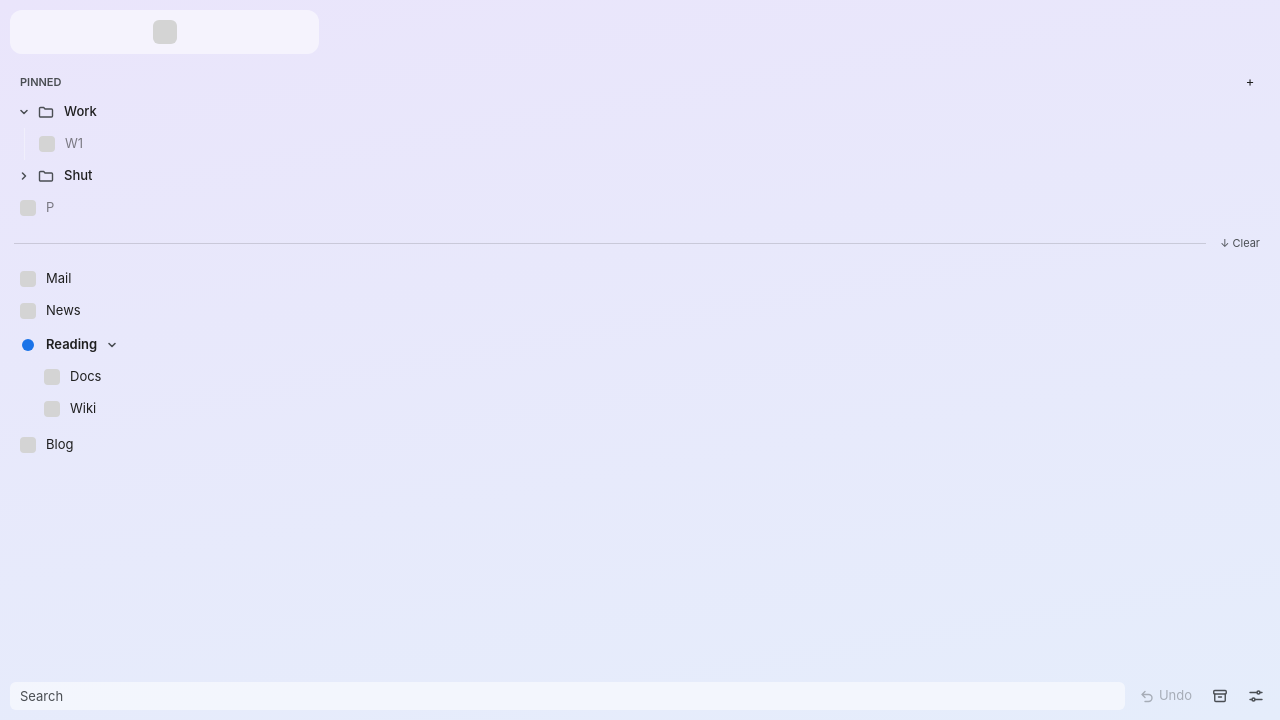
Test case: what the selection counts › shows the bar only while rows are selected, with the count and three buttons
Step 1. Click the button "Mail" → [28, 279], box [10,263,1242,295]
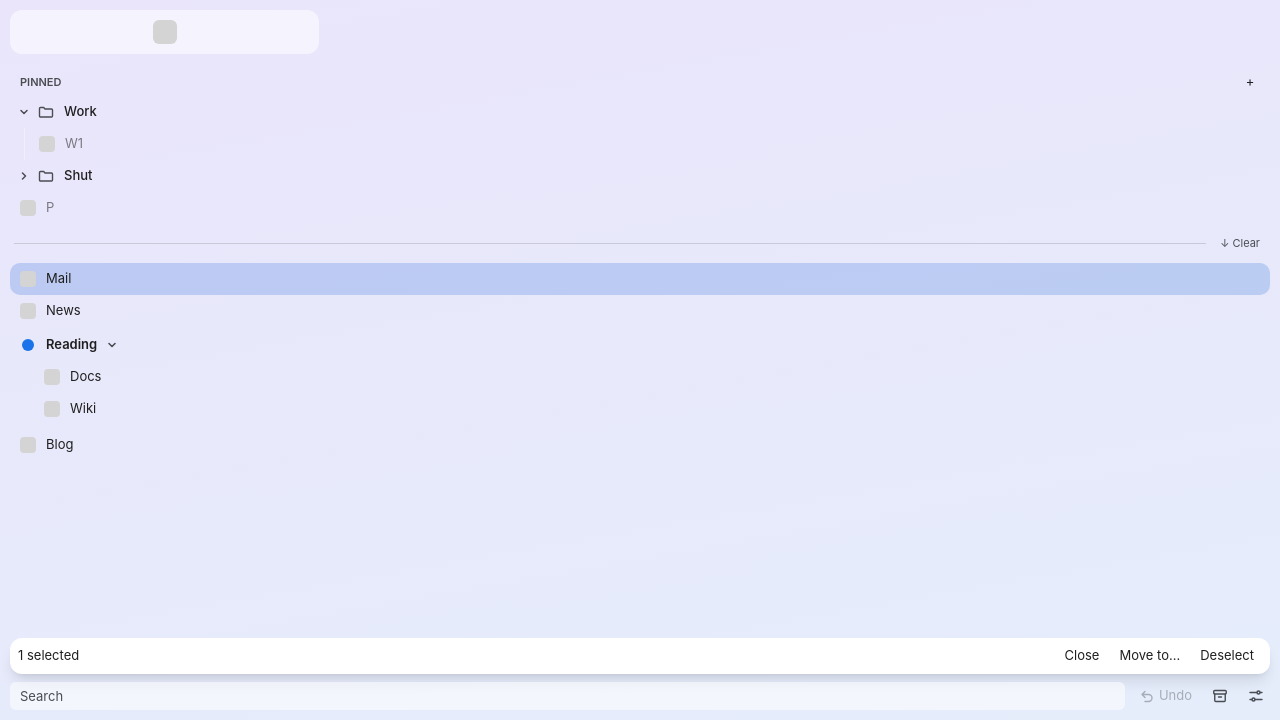
Step 2. Click the button "P" → [28, 208], box [10,192,1242,224]
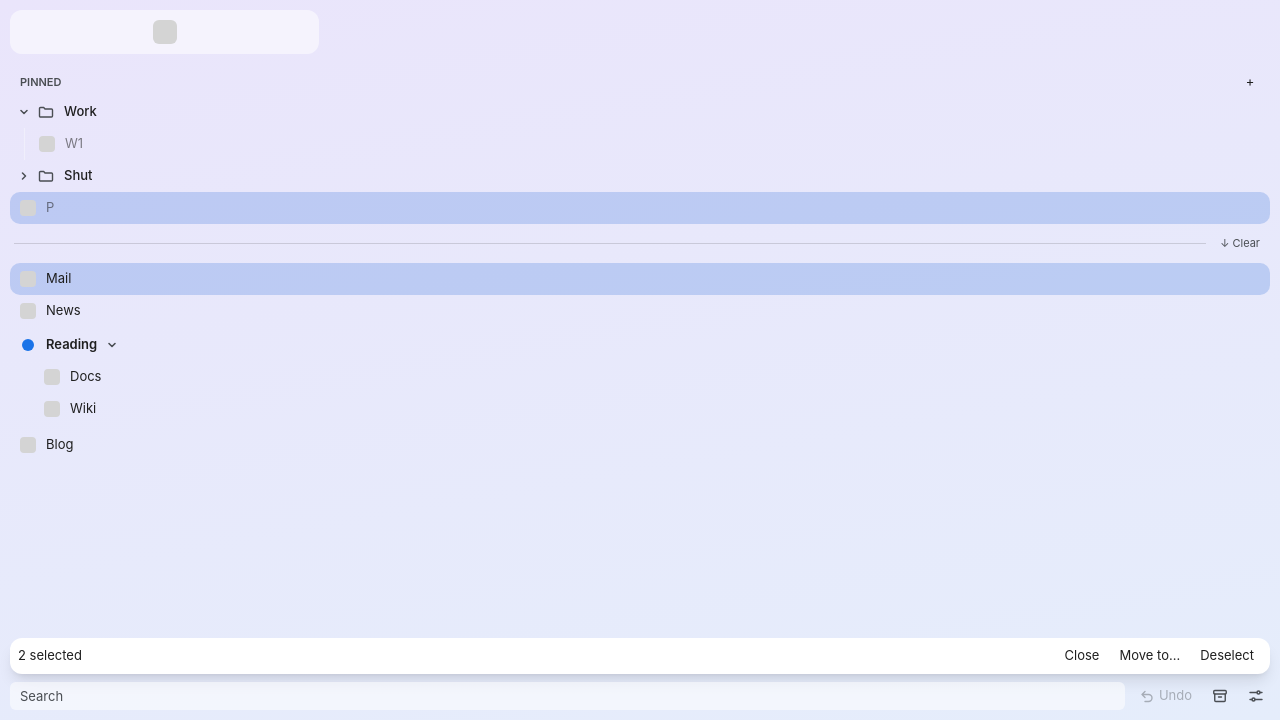
Expected: the buttons read "Close", "Move to…", "Deselect", in this order, [1057,642,1108,670]; [1112,642,1188,670]; [1192,642,1262,670]
Expected: the message reads "2 selected", [18,647,82,663]
